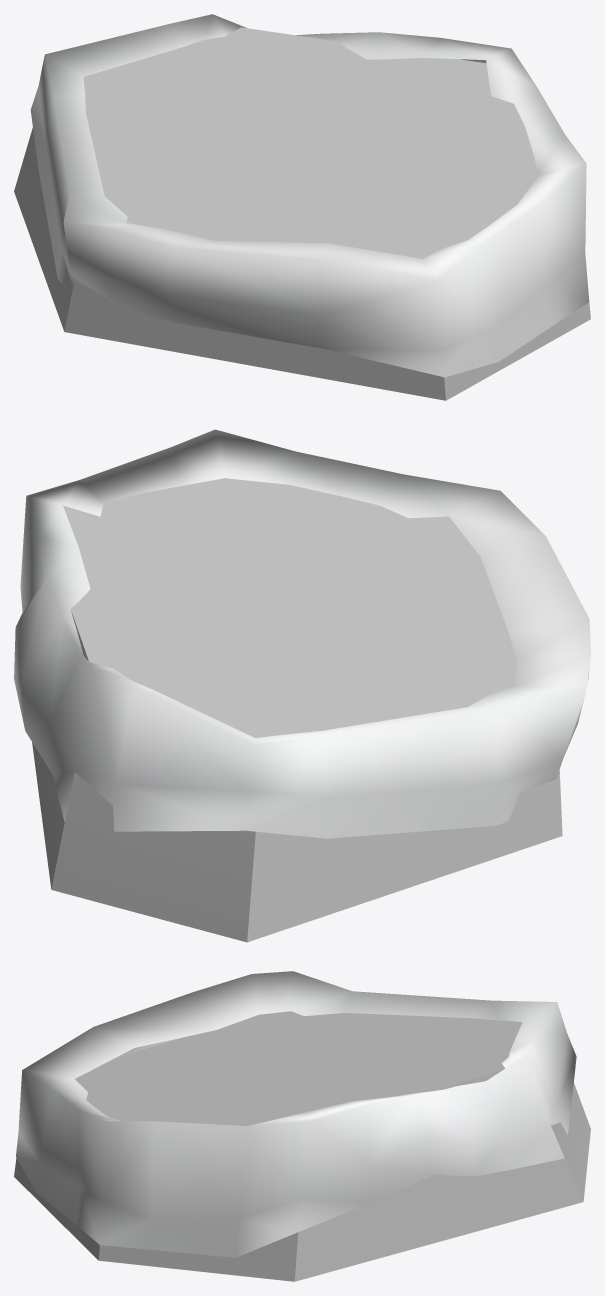
Rendered from SM_DeadTrunk_01.FBX.
3 views of the same model, one above another, from view 1: azimuth 30°, elevation 25°; view 2: azimuth 150°, elevation 25°; view 3: azimuth 270°, elevation 25° (orthographic). The views are drawn at different scales.
Parts seen in each view (by area): view 1: SM_DeadTrunk_01; view 2: SM_DeadTrunk_01; view 3: SM_DeadTrunk_01.
Boxes of the visible parts, x1=… form: SM_DeadTrunk_01: x1=14, y1=14, x2=590, y2=400; SM_DeadTrunk_01: x1=14, y1=429, x2=590, y2=942; SM_DeadTrunk_01: x1=14, y1=971, x2=590, y2=1281.
Size of the model in its own units: 85.21 by 30.4 by 102.
